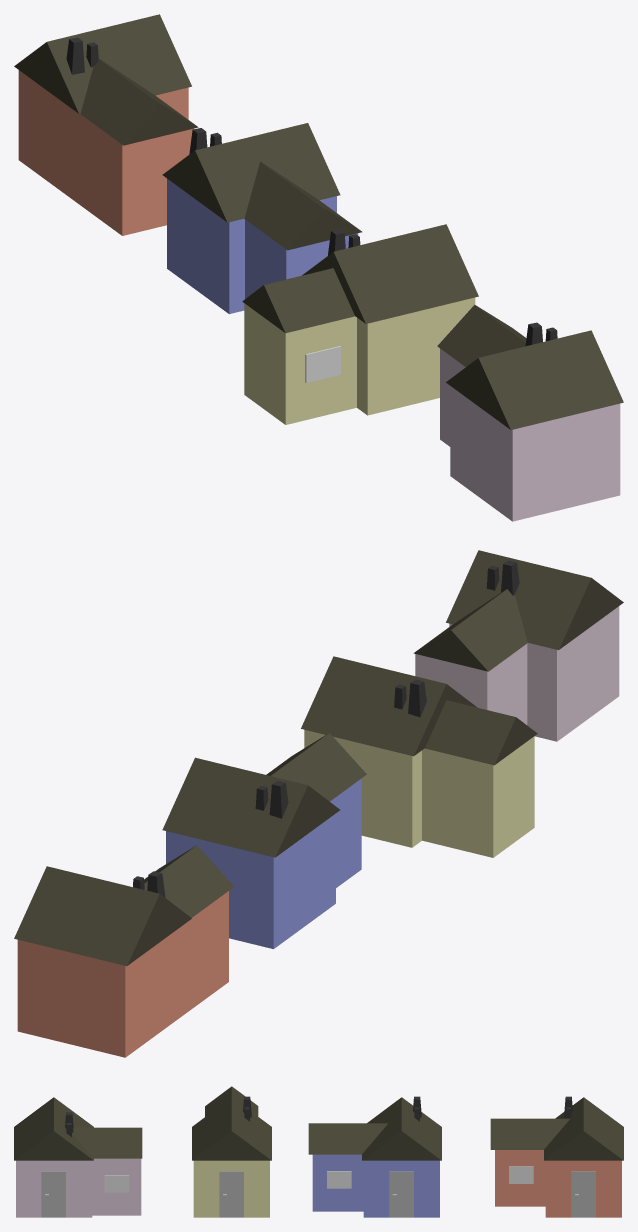
Rendered from Houses.fbx.
3 views of the same model, one above another, from view 1: azimuth 30°, elevation 25°; view 2: azimuth 150°, elevation 25°; view 3: azimuth 270°, elevation 25° (orthographic). The views are drawn at different scales.
Parts seen in each view (by area): view 1: Cube.035, Cube.033, Cube.020, Cube.019, Cube.011, Cube.001, Cube.018, Cube.002, Cube.009, Cube, Cube.003, Cube.012 (+5 smaller); view 2: Cube, Cube.009, Cube.002, Cube.019, Cube.011, Cube.020, Cube.035, Cube.033, Cube.018, Cube.032, Cube.021, Cube.034 (+4 smaller); view 3: Cube.020, Cube.002, Cube.011, Cube.033, Cube, Cube.009, Cube.018, Cube.035, Cube.010, Cube.034, Cube.001, Cube.003 (+10 smaller).
Boxes of the visible parts, <box> form: Cube.035: <box>450,386,620,521</box>; Cube.033: <box>446,330,623,429</box>; Cube.020: <box>302,224,478,323</box>; Cube.019: <box>244,303,356,424</box>; Cube.011: <box>162,123,340,222</box>; Cube.001: <box>81,115,194,235</box>; Cube.018: <box>357,297,475,415</box>; Cube.002: <box>14,14,191,113</box>; Cube.009: <box>167,178,336,314</box>; Cube: <box>18,70,188,205</box>; Cube.003: <box>80,58,198,145</box>; Cube.012: <box>244,161,362,250</box>; Cube: <box>17,922,187,1057</box>; Cube.009: <box>166,813,335,949</box>; Cube.002: <box>14,866,191,966</box>; Cube.019: <box>422,736,534,857</box>; Cube.011: <box>162,757,339,857</box>; Cube.020: <box>301,656,477,756</box>; Cube.035: <box>449,606,619,741</box>; Cube.033: <box>446,550,623,650</box>; Cube.018: <box>304,729,421,847</box>; Cube.032: <box>413,589,527,671</box>; Cube.021: <box>425,700,537,765</box>; Cube.034: <box>415,643,527,724</box>; Cube.020: <box>192,1097,271,1160</box>; Cube.002: <box>544,1097,623,1160</box>; Cube.011: <box>362,1097,441,1160</box>; Cube.033: <box>14,1097,93,1160</box>; Cube: <box>545,1160,621,1217</box>; Cube.009: <box>363,1160,439,1217</box>; Cube.018: <box>193,1160,269,1217</box>; Cube.035: <box>16,1160,92,1217</box>; Cube.010: <box>312,1154,363,1211</box>; Cube.034: <box>92,1158,141,1215</box>; Cube.001: <box>495,1150,545,1206</box>; Cube.003: <box>490,1118,569,1149</box>.
Bounding box in the file's own units: 2034 × 1584 × 9587.
